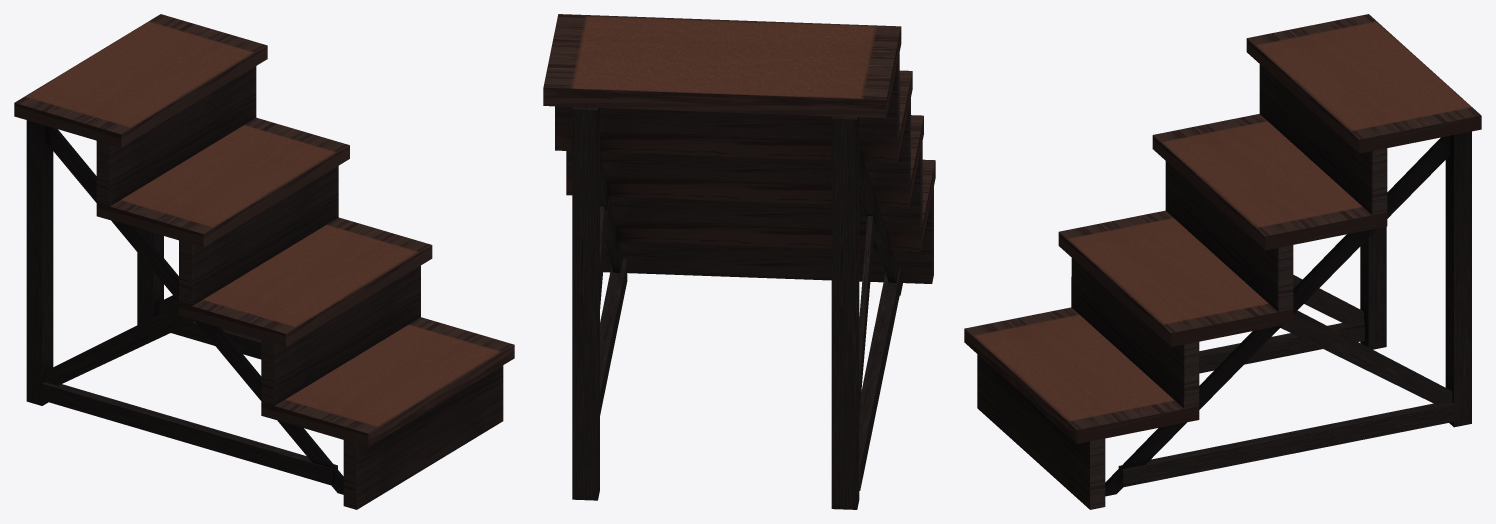
File: Biblioteca_EscalerasCortas_001.fbx
3 views of the same model, side by side, from view 1: azimuth 30°, elevation 25°; view 2: azimuth 150°, elevation 25°; view 3: azimuth 270°, elevation 25° (orthographic). The views are drawn at different scales.
Parts seen in each view (by area): view 1: Biblioteca_EscalerasCortas.001; view 2: Biblioteca_EscalerasCortas.001; view 3: Biblioteca_EscalerasCortas.001.
Boxes of the visible parts, bbox=[...] form: Biblioteca_EscalerasCortas.001: bbox=[14, 14, 514, 509]; Biblioteca_EscalerasCortas.001: bbox=[543, 14, 935, 509]; Biblioteca_EscalerasCortas.001: bbox=[964, 14, 1481, 509].
Bounding box in the file's own units: 105 × 85.27 × 126.
